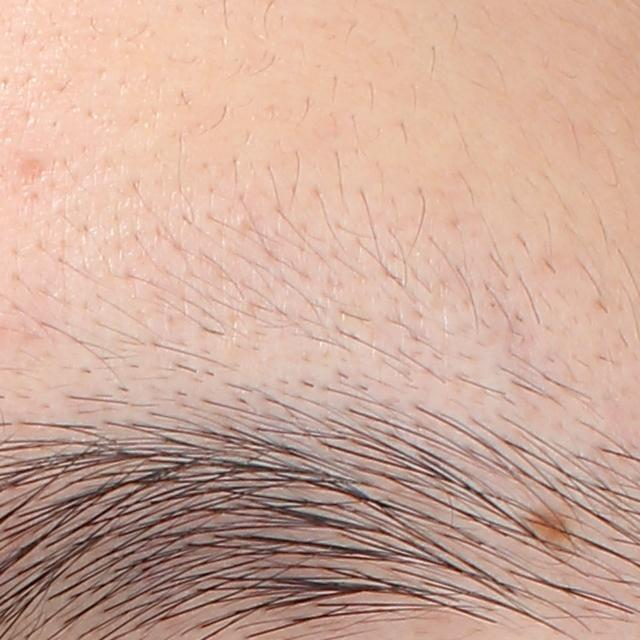atrophic_scar: (16, 149, 59, 202)
nevus: (520, 497, 568, 543)
